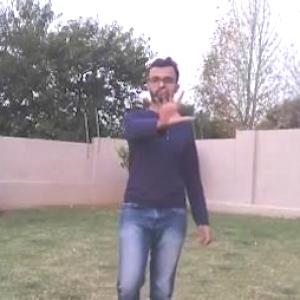follow_hand: (146, 77, 198, 130)
